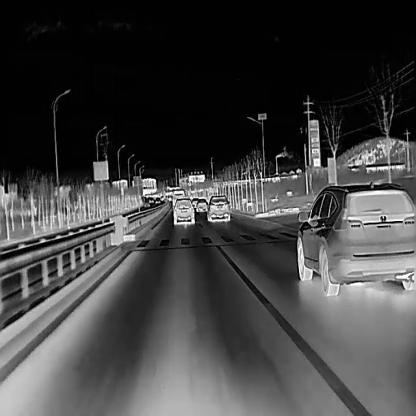bus: (171, 188, 185, 210)
car: (295, 178, 415, 296), (205, 194, 229, 221), (171, 198, 194, 224), (195, 197, 207, 212), (190, 197, 198, 208), (153, 197, 160, 204), (148, 196, 154, 204), (144, 200, 150, 206)
